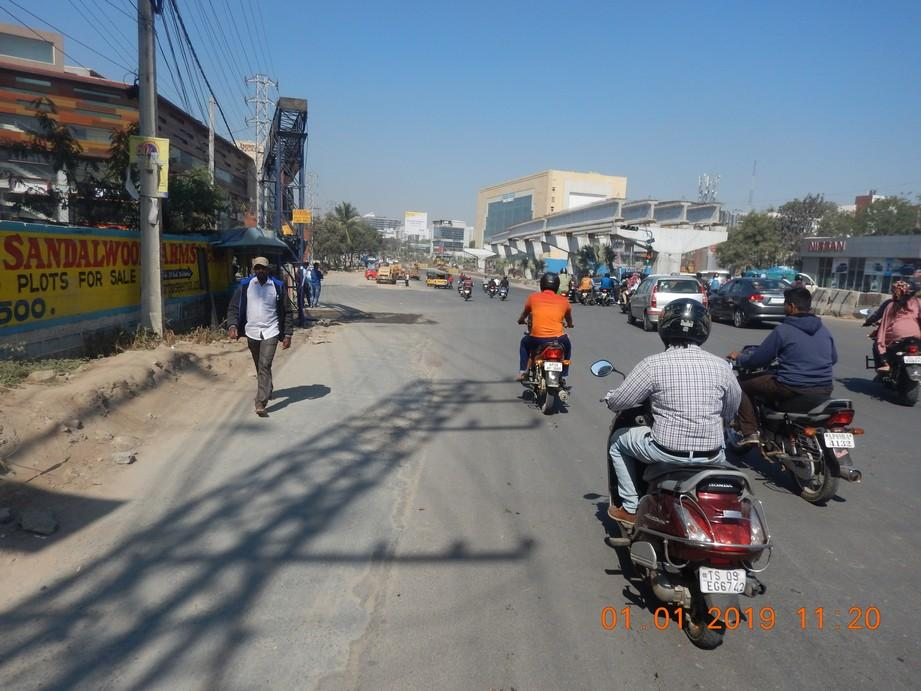plate: (698, 567, 749, 593), (824, 432, 856, 449)
